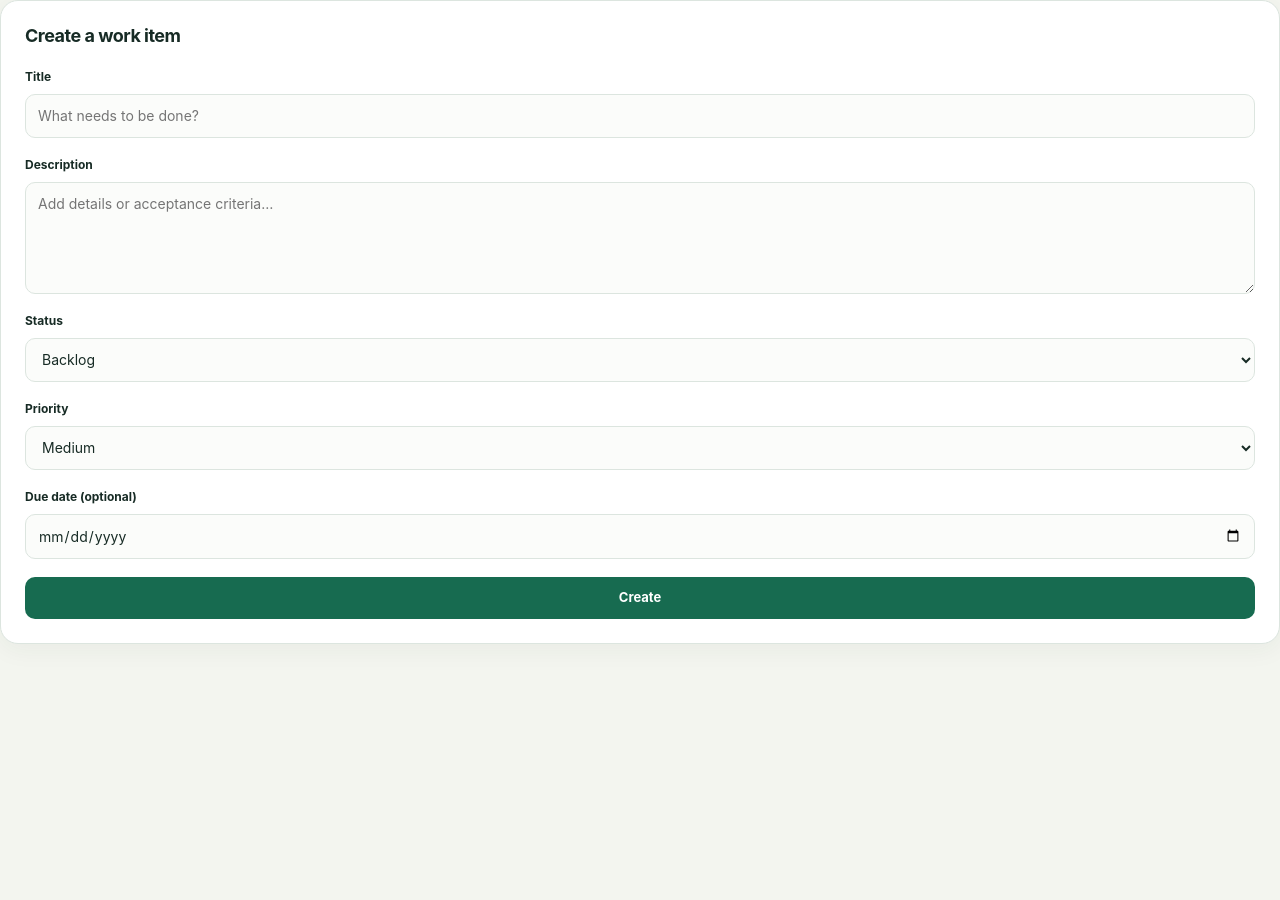
Test: WorkItemForm › shows a validation error instead of saving a short title
Type "ab" into the field labelled "Title" at (640, 116), box [25,94,1255,138]
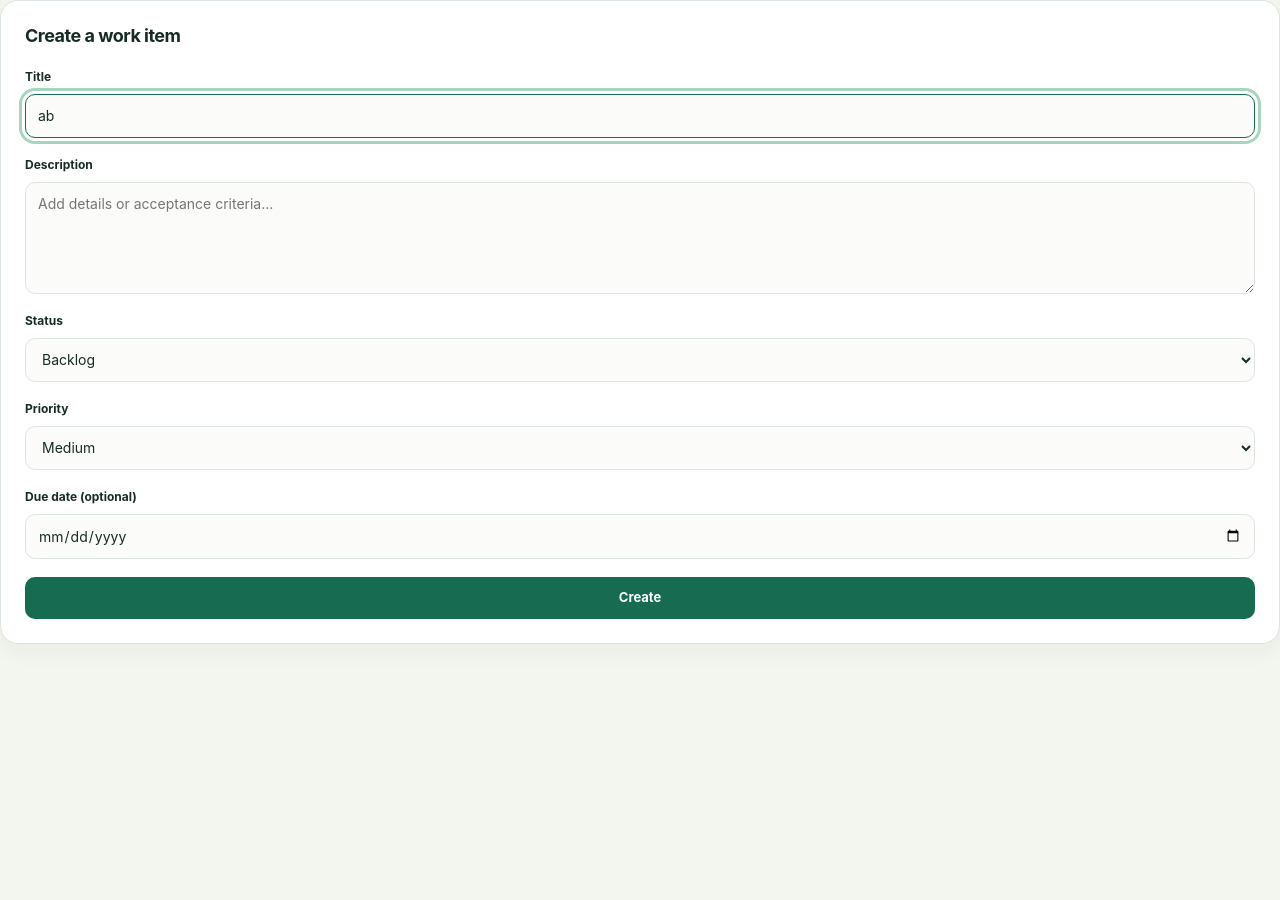
Click the button "Create" at (640, 598), box [25,576,1255,618]
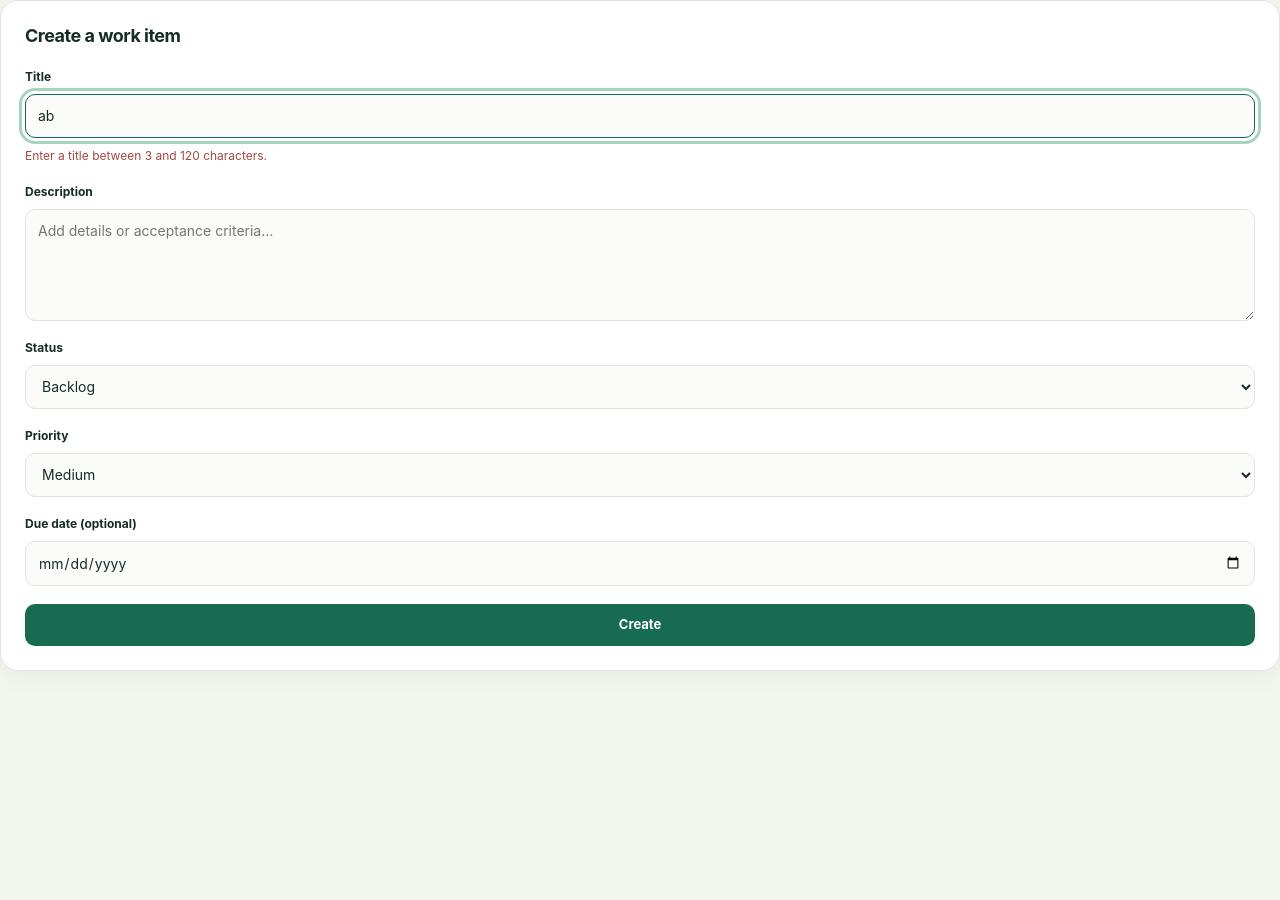
Check: the text "Enter a title between 3 and 120 characters." is shown, box [25,148,267,162]
